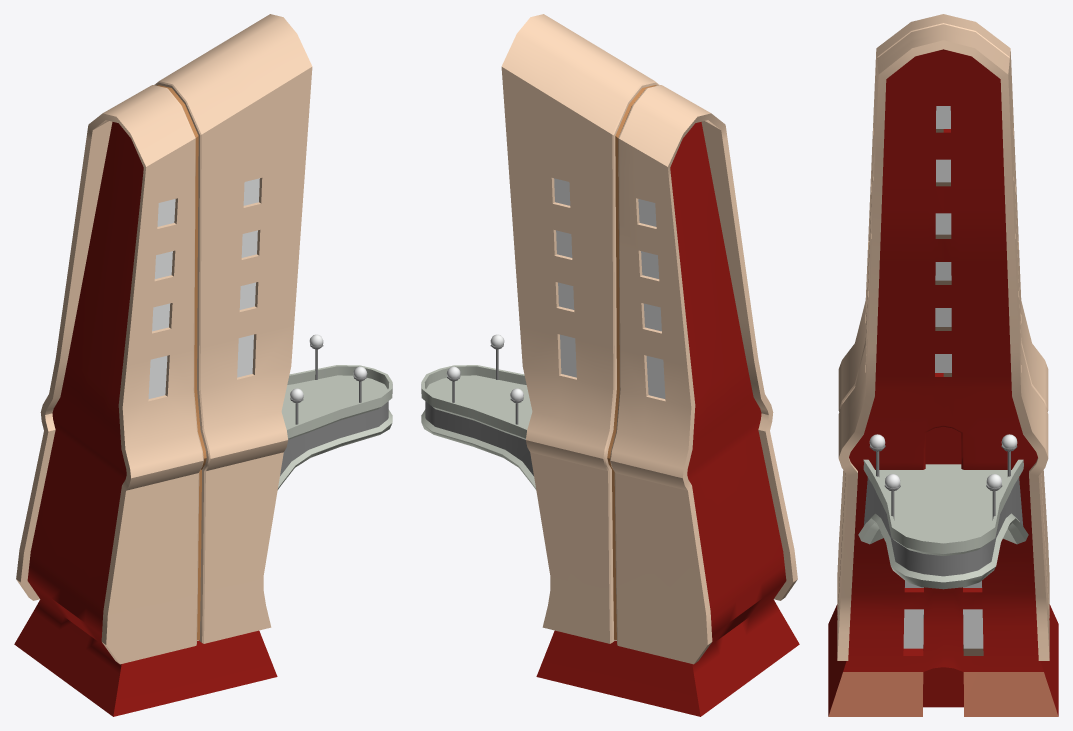
File: SM_building_palace_A.fbx
3 views of the same model, side by side, from view 1: azimuth 30°, elevation 25°; view 2: azimuth 150°, elevation 25°; view 3: azimuth 270°, elevation 25° (orthographic). The views are drawn at different scales.
Visible parts, largest first — view 1: SM_building_palace_A; view 2: SM_building_palace_A; view 3: SM_building_palace_A.
Boxes of the visible parts, x1=… form: SM_building_palace_A: x1=14, y1=14, x2=392, y2=716; SM_building_palace_A: x1=421, y1=14, x2=799, y2=716; SM_building_palace_A: x1=828, y1=14, x2=1058, y2=716.
Bounding box in the file's own units: 2998 × 5350 × 1576.
